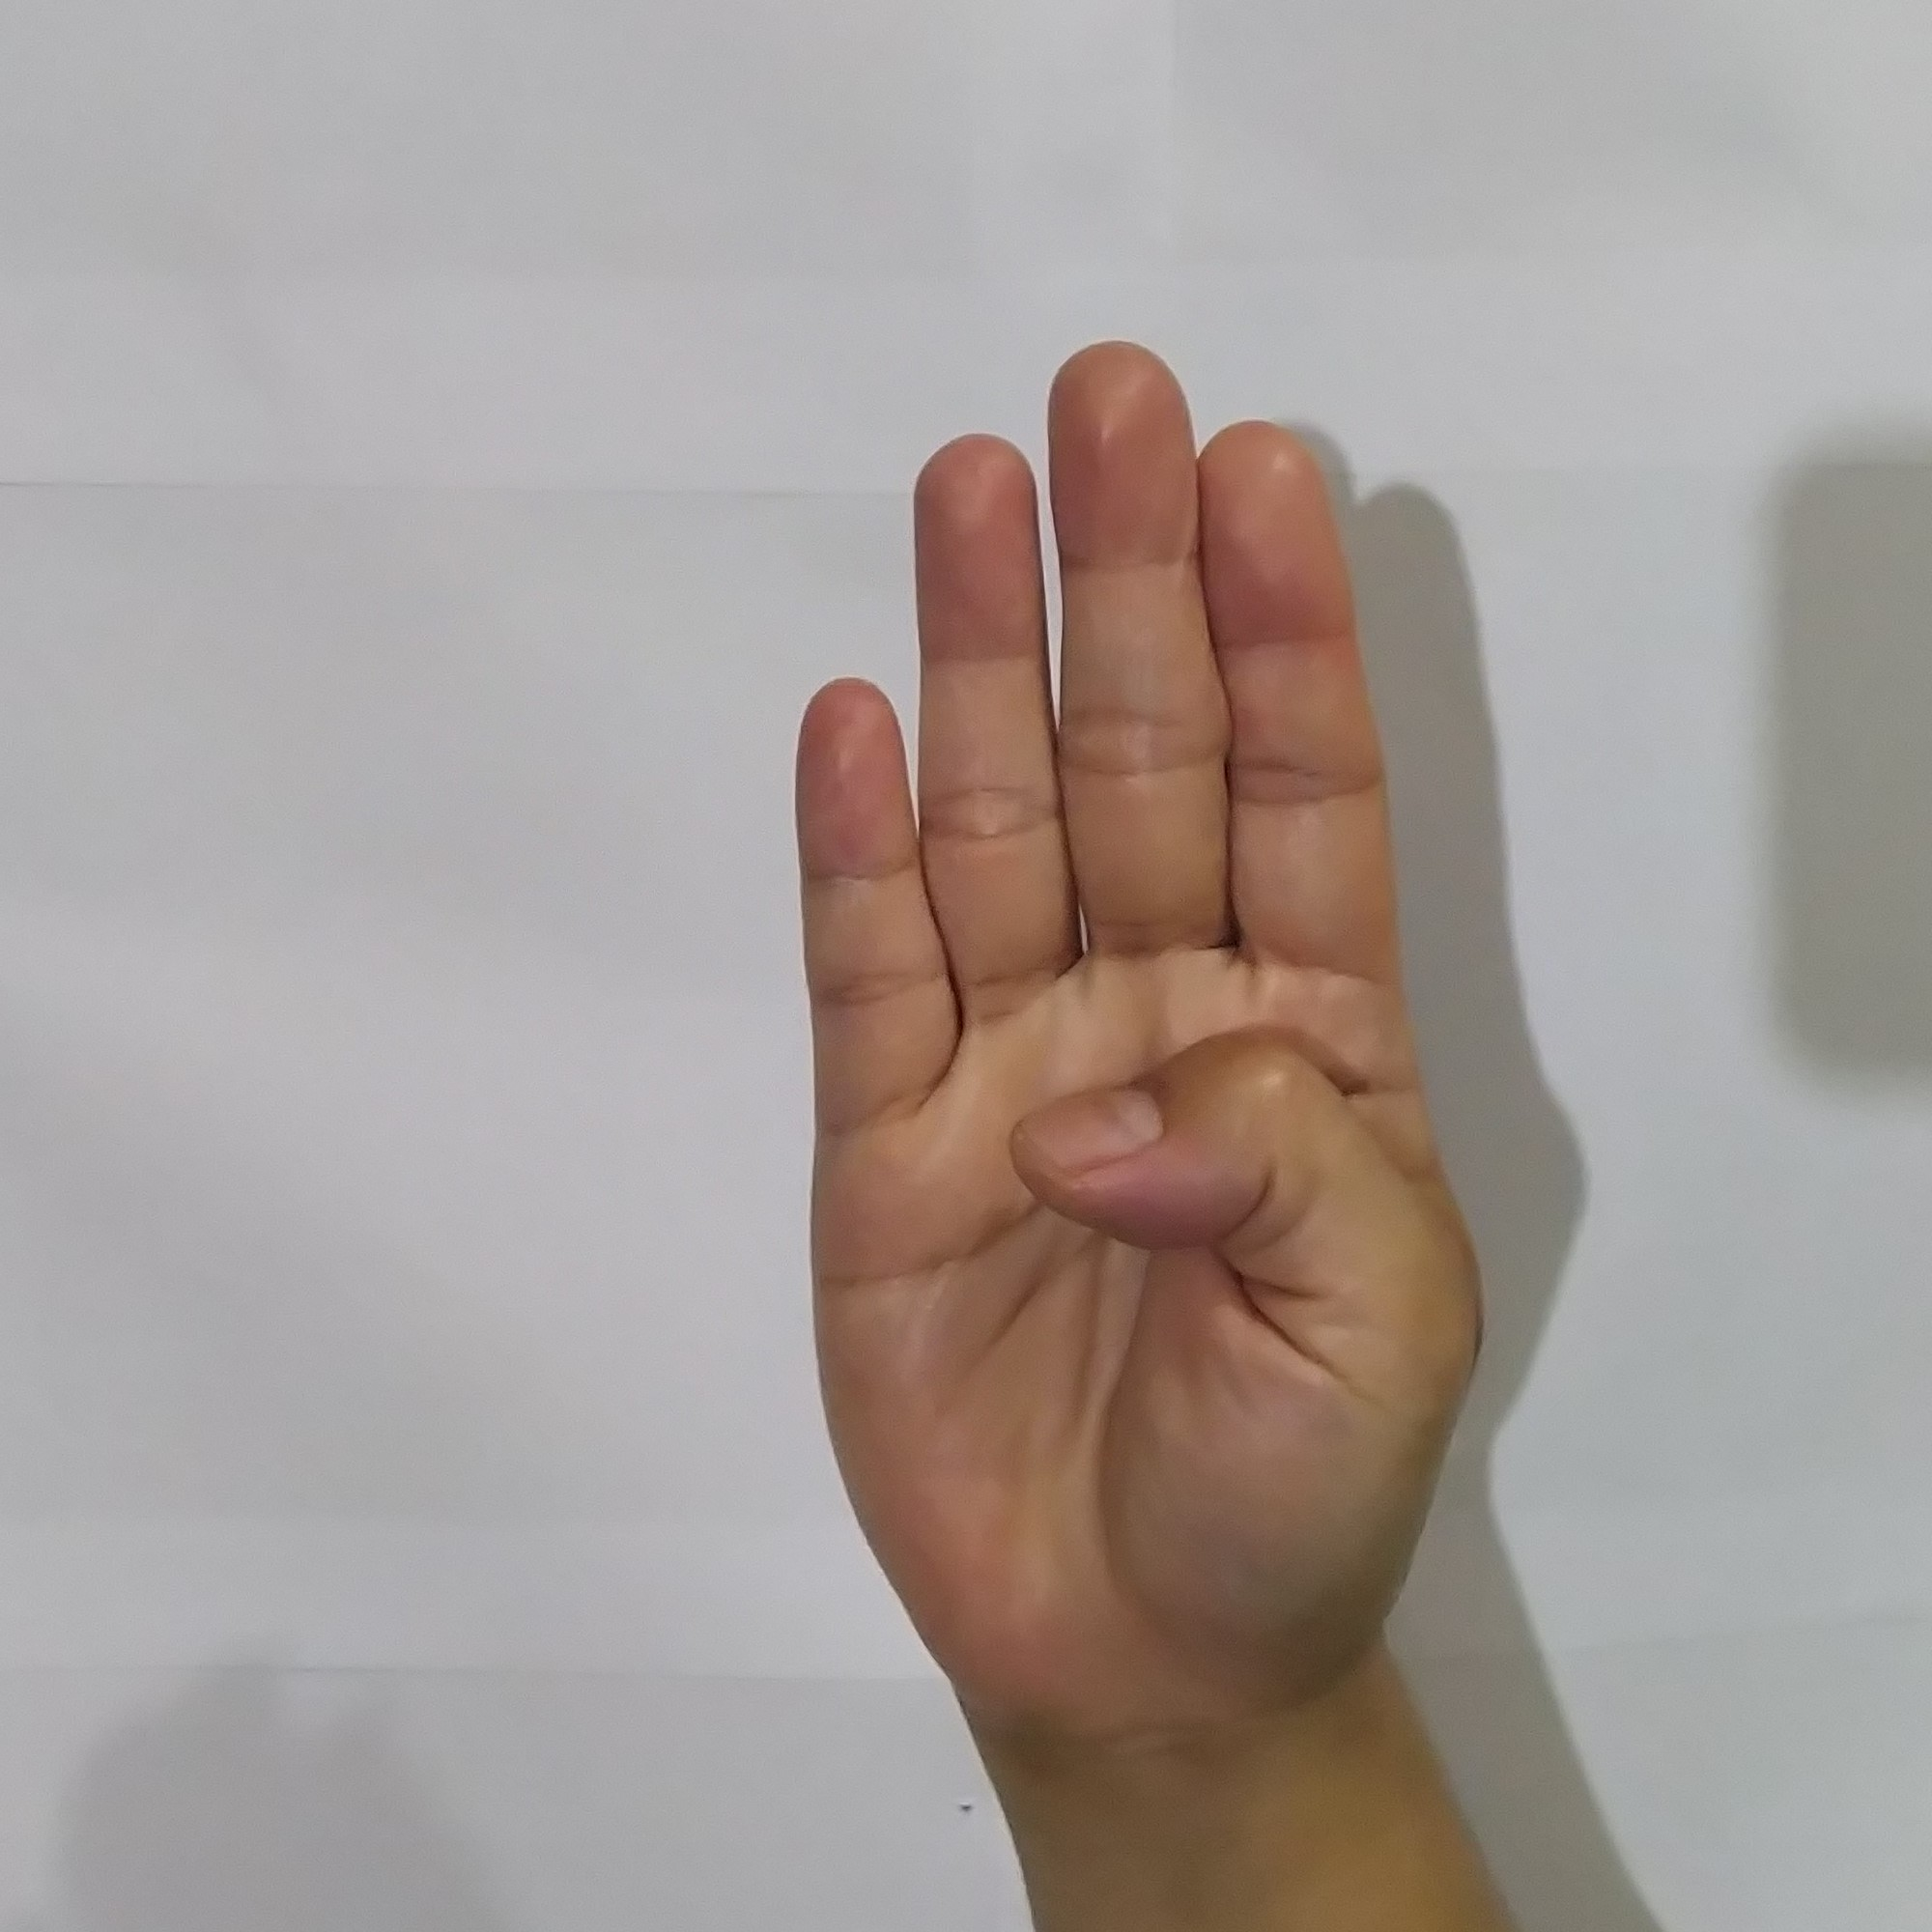B: (759, 317, 1509, 1743)
